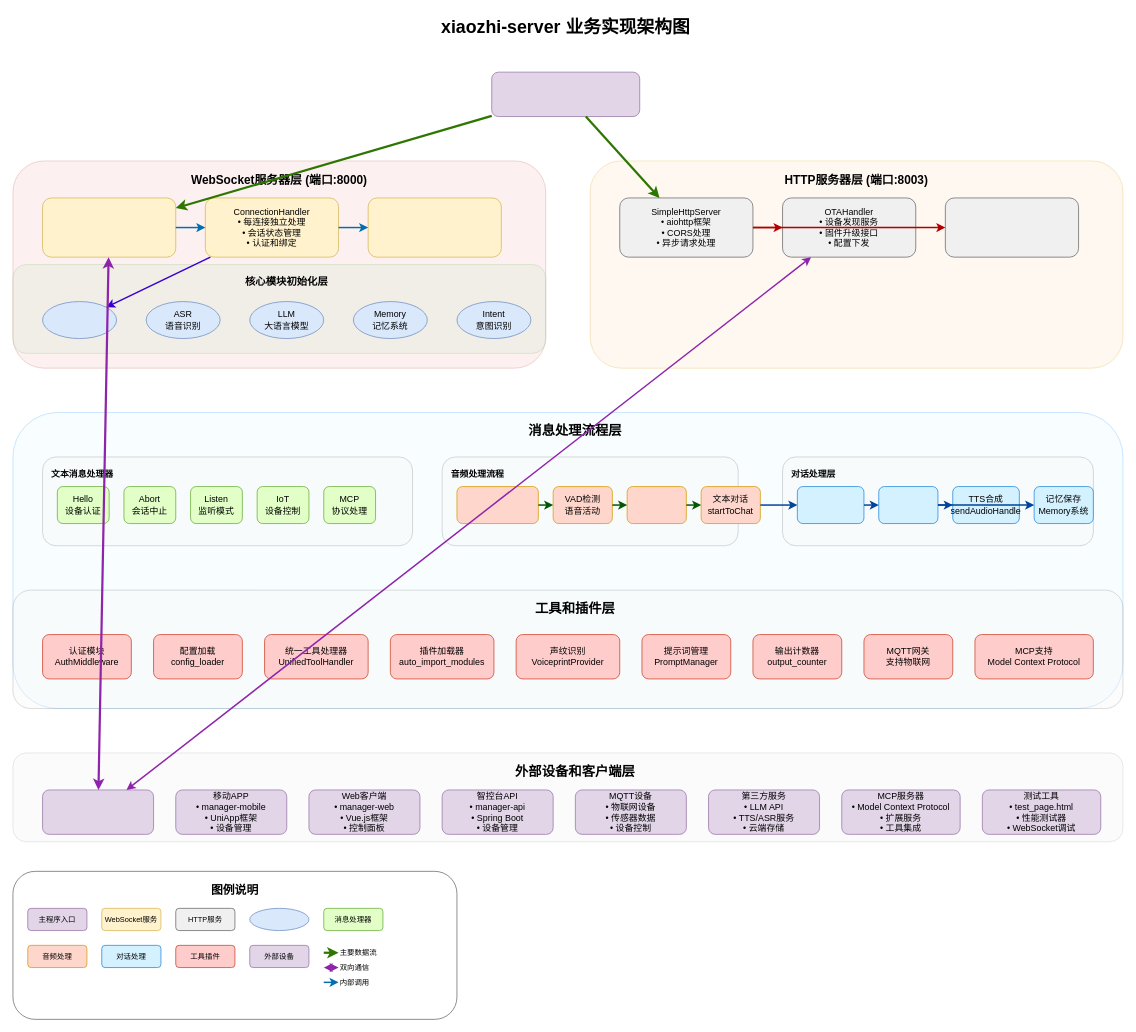
Some shapes in this 1136 by 1032 pixel diagram are drawn without their labels. The shapes that lost their labels are listed below. From the top down, each one's box as (x1, y1, x2, y2) in pixels, then its label:
(491, 71, 640, 117): app.py 主程序入口
(42, 197, 176, 257): WebSocketServer • WebSocket连接管理 • HTTP协议升级 • 连接状态监控
(367, 197, 501, 257): TextMessageProcessor • 消息路由分发 • JSON解析处理 • 处理器注册表
(945, 197, 1079, 257): VisionHandler • 视觉分析接口 • 多模态理解 • JWT认证
(42, 301, 117, 339): VAD 语音活动检测
(456, 486, 538, 524): 接收音频 receiveAudioHandle
(626, 486, 686, 524): ASR识别 语音转文字
(797, 486, 864, 524): 意图分析 intentHandler
(878, 486, 938, 524): LLM对话 chat处理
(42, 789, 154, 834): ESP32设备 • WebSocket连接 • 实时音频传输 • 固件OTA升级
(249, 908, 309, 931): 核心模块
